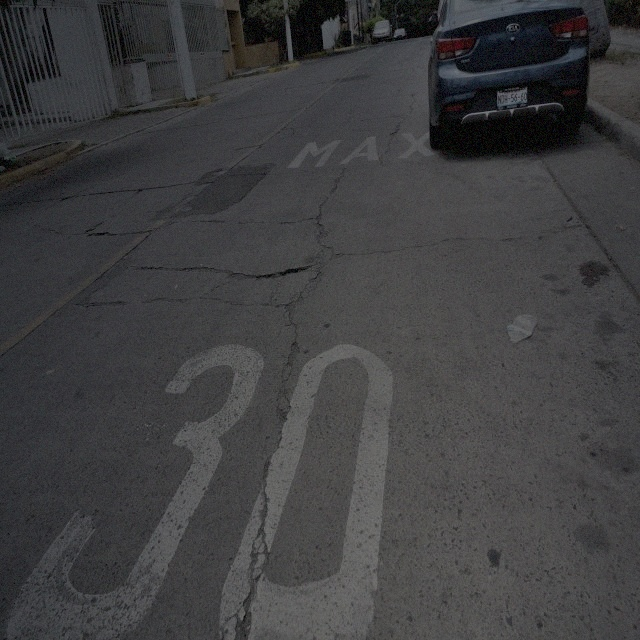pothole: (233, 588, 256, 637)
